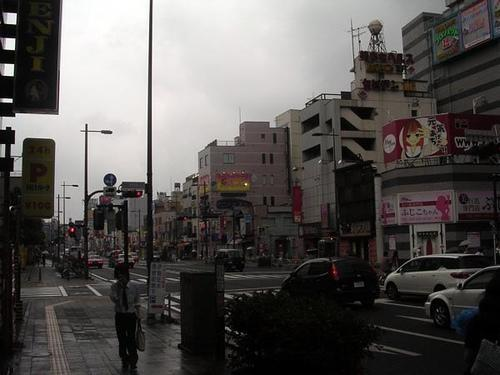car: (280, 256, 381, 308), (384, 253, 490, 299), (425, 266, 500, 330), (215, 247, 246, 272), (109, 250, 136, 268), (88, 254, 105, 268), (152, 251, 162, 261), (130, 252, 138, 260)
